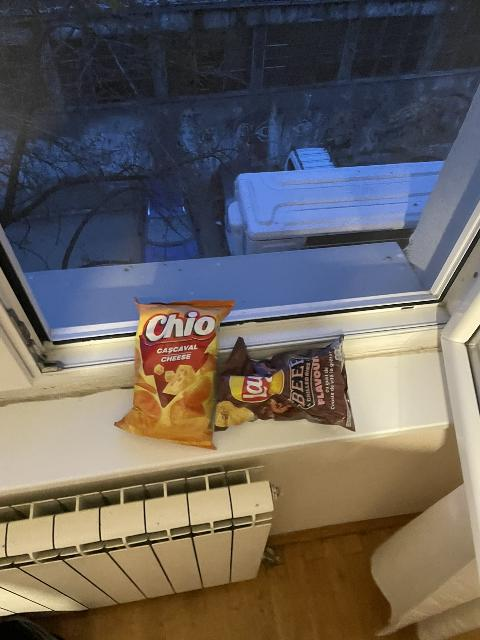Chio Cascaval 125g: (114, 304, 235, 449)
Lays Beef Grilled Ribs 125g: (217, 335, 350, 429)
